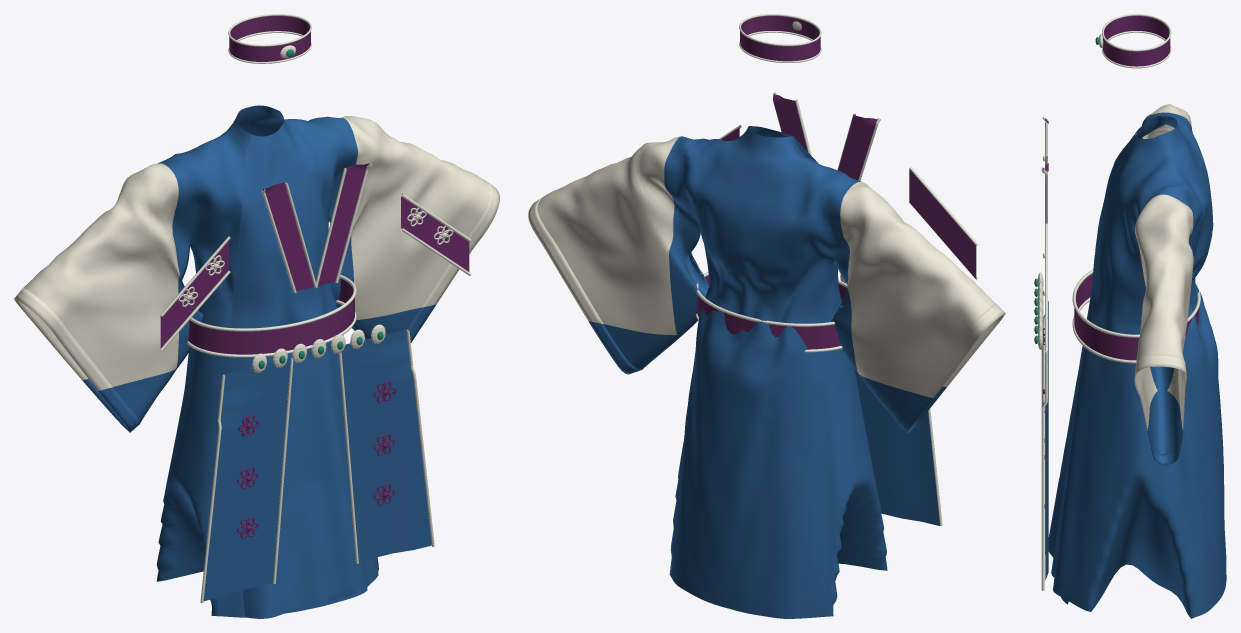
3 views of the same model, side by side, from view 1: azimuth 30°, elevation 25°; view 2: azimuth 150°, elevation 25°; view 3: azimuth 270°, elevation 25° (orthographic).
Parts seen in each view (by area): view 1: SM_CL00125; view 2: SM_CL00125; view 3: SM_CL00125.
Boxes of the visible parts, <box> form: SM_CL00125: <box>14,14,499,618</box>; SM_CL00125: <box>528,14,1005,618</box>; SM_CL00125: <box>1034,14,1226,618</box>.
Bounding box in the file's own units: 1.59 × 1.79 × 0.5692.
